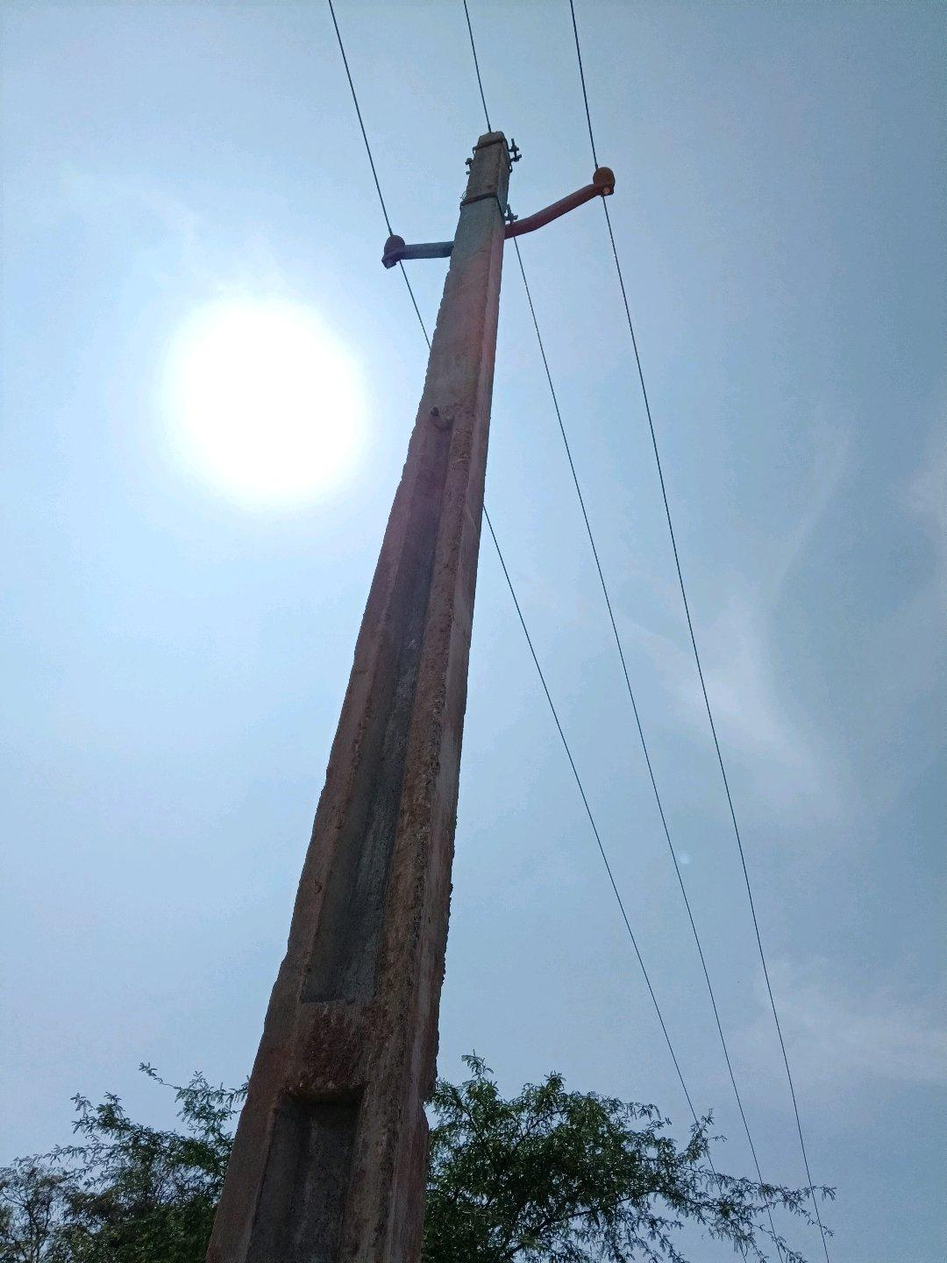{"0" "insulator", "1" "pole", "2" "crossarm", "3" "conductor", "4" "street_: (207, 132, 614, 1262), (384, 239, 404, 266)
